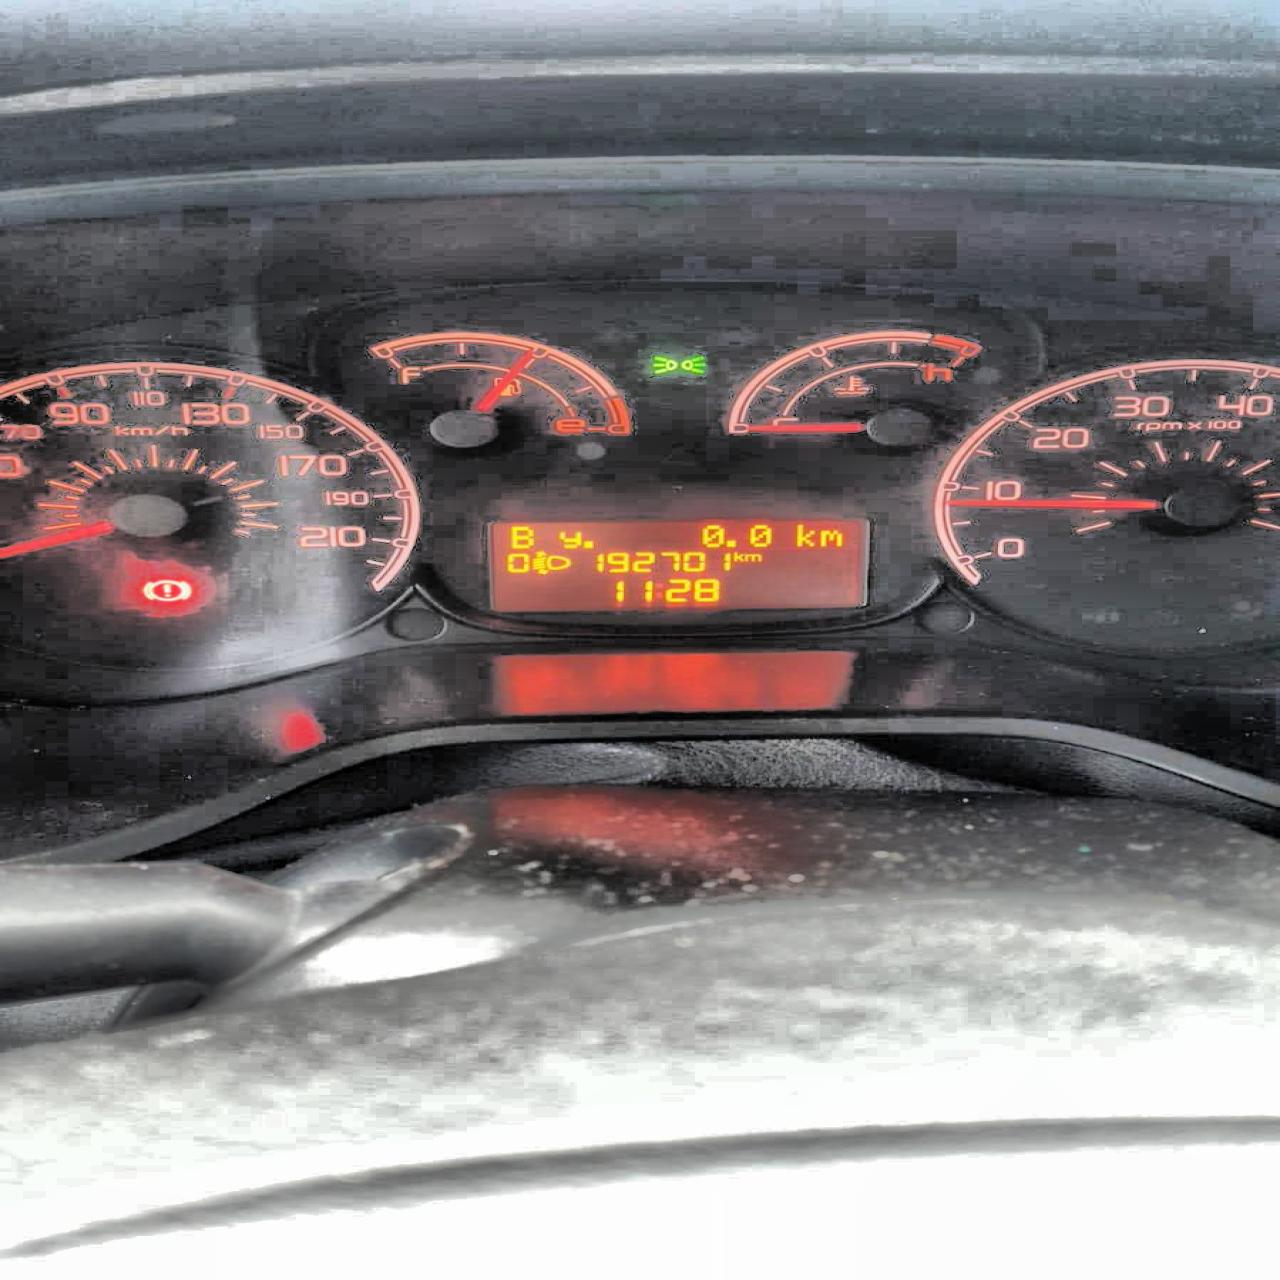-: (723, 537, 737, 549), (583, 539, 594, 550)
0: (744, 523, 771, 547), (697, 523, 723, 547), (504, 552, 530, 573), (682, 550, 706, 572)
1: (613, 578, 629, 604), (642, 578, 654, 604), (721, 551, 730, 572), (595, 552, 604, 573)
2: (663, 577, 690, 601), (633, 549, 656, 573)
7: (659, 550, 681, 572)
8: (692, 577, 722, 601)
9: (605, 551, 629, 572)
X: (791, 522, 817, 549), (506, 524, 536, 547), (816, 527, 847, 546), (557, 529, 581, 550), (654, 581, 663, 600), (743, 552, 762, 561), (731, 550, 743, 561)
odometer: (482, 515, 886, 618)
